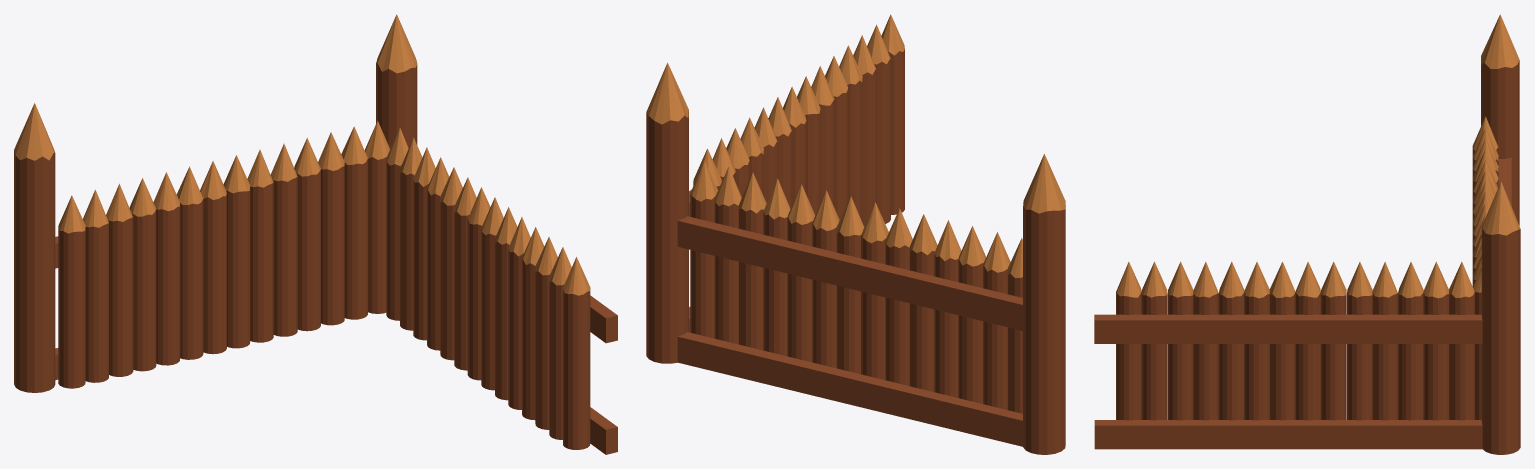
Rendered from wooden_fence_corner_reversed.fbx.
3 renders of one model, left to right at view 1: azimuth 30°, elevation 25°; view 2: azimuth 150°, elevation 25°; view 3: azimuth 270°, elevation 25°, orthographic. The views are drawn at different scales.
Parts seen in each view (by area): view 1: Cylinder.002; view 2: Cylinder.002; view 3: Cylinder.002.
Part boxes in pixels (<box>): Cylinder.002: <box>14,14,617,454</box>; Cylinder.002: <box>646,14,1065,454</box>; Cylinder.002: <box>1094,14,1520,454</box>.
Size of the model in its own units: 665 by 450 by 654.
